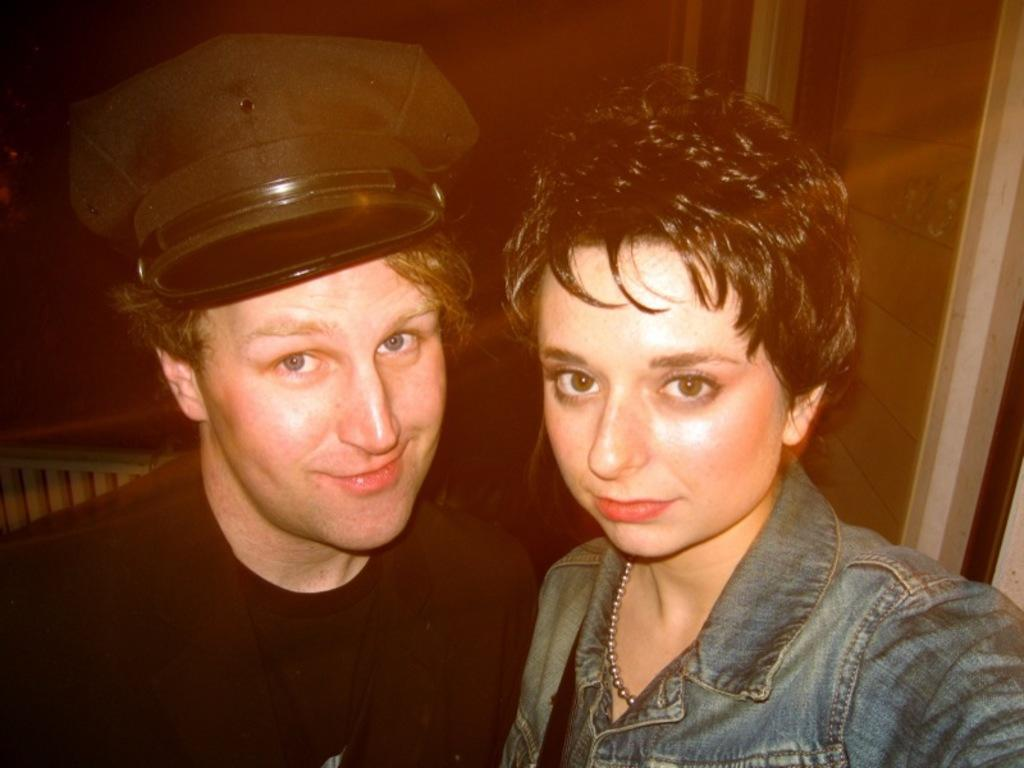Hat: (68, 28, 480, 304)
